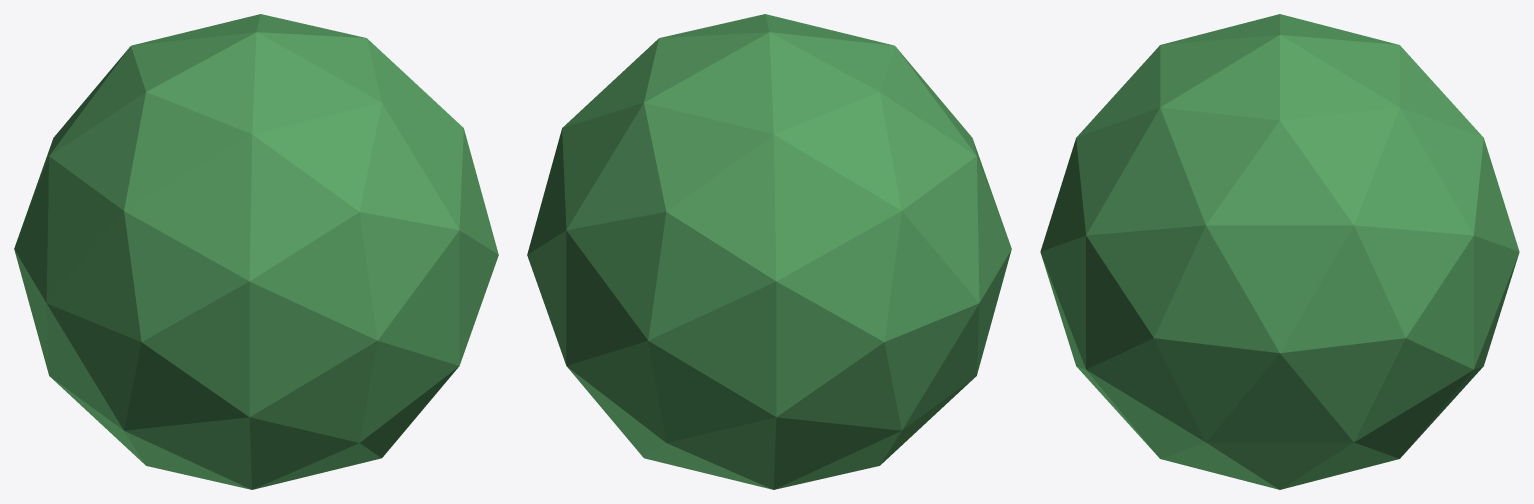
The model's file is bush_large.glb.
3 views of the same model, side by side, from view 1: azimuth 30°, elevation 25°; view 2: azimuth 150°, elevation 25°; view 3: azimuth 270°, elevation 25° (orthographic).
Parts seen in each view (by area): view 1: world; view 2: world; view 3: world.
Part boxes in pixels (<box>): world: <box>14,14,498,489</box>; world: <box>527,14,1011,489</box>; world: <box>1040,14,1519,489</box>.
Bounding box in the file's own units: 1.8 × 1.8 × 1.8.
